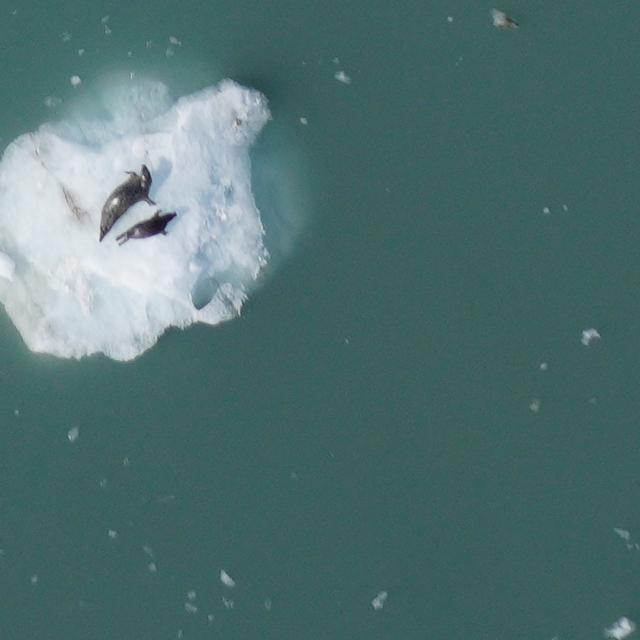seal: (94, 160, 161, 246), (112, 204, 180, 250)
